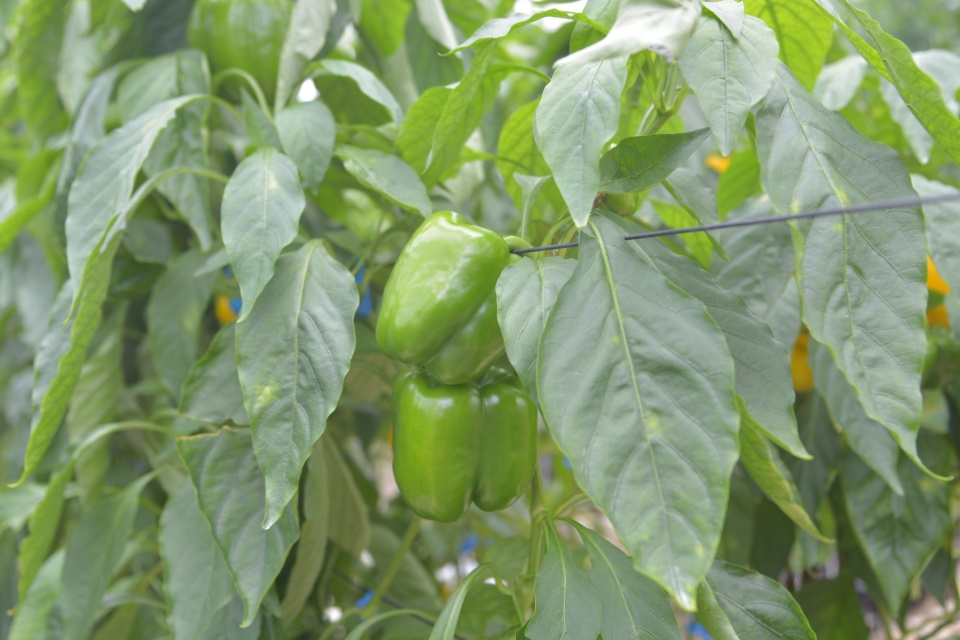fruit: (373, 207, 533, 389), (387, 362, 543, 525), (181, 0, 298, 106)
